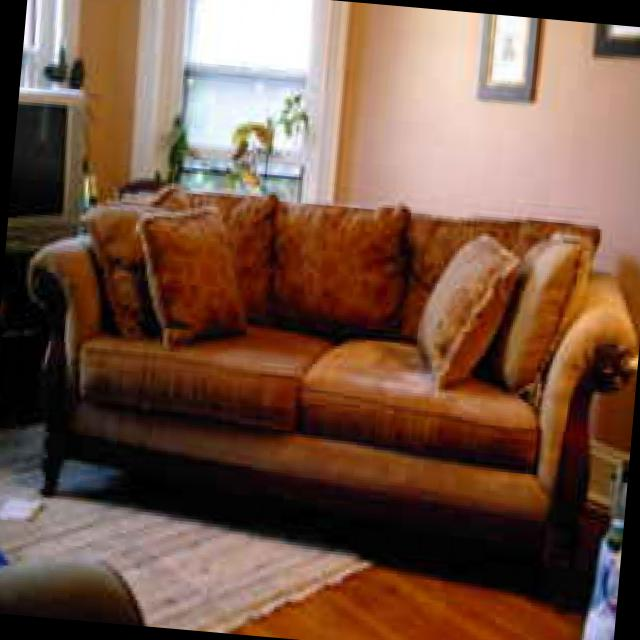2001: (173, 0, 315, 197)
armchair occluded: (0, 545, 144, 620)
carpet floor: (0, 415, 410, 626)
curtain crop: (298, 4, 352, 199)
cushion occluded: (269, 198, 406, 334), (494, 228, 591, 400), (416, 230, 520, 384), (145, 198, 252, 343), (85, 193, 167, 336)
floor -X: (0, 393, 623, 640)
furniture toy: (1, 238, 51, 422)
picture frame: (481, 16, 543, 104), (596, 23, 640, 56)
sofa bed: (27, 189, 637, 603)
televison: (13, 67, 90, 235)
